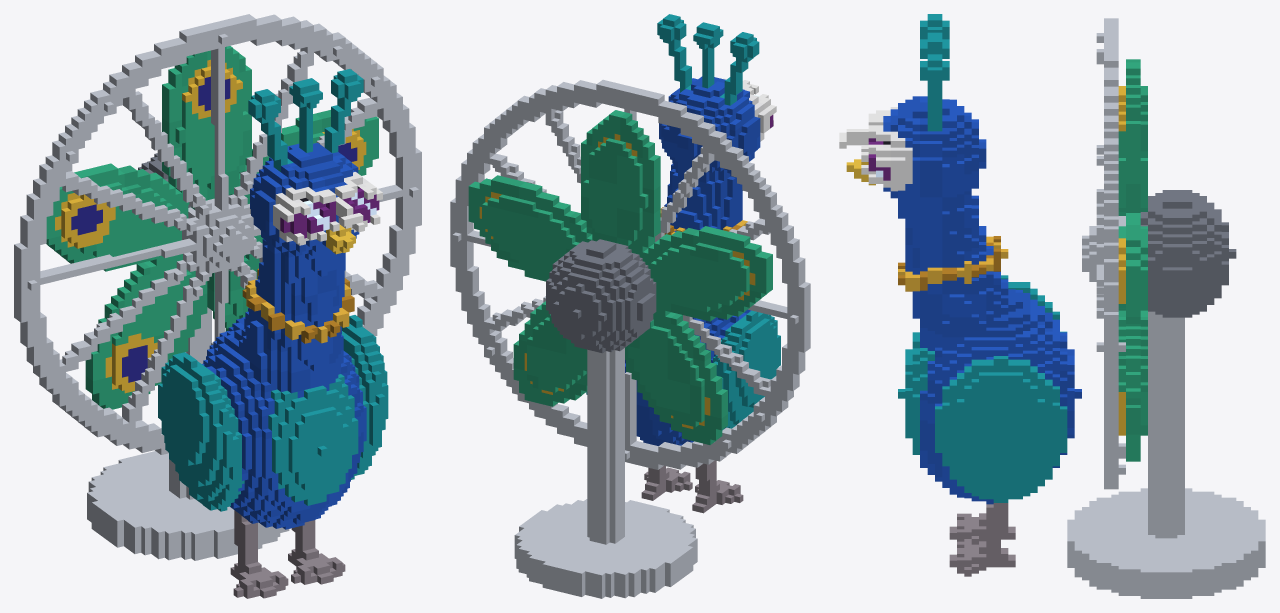
Rendered from ventilatore_pavone.glb.
3 renders of one model, left to right at view 1: azimuth 30°, elevation 25°; view 2: azimuth 150°, elevation 25°; view 3: azimuth 270°, elevation 25°, orthographic. The views are drawn at different scales.
Visible parts, largest first — view 1: SM_Brainrot_ventilatore_pavone; view 2: SM_Brainrot_ventilatore_pavone; view 3: SM_Brainrot_ventilatore_pavone.
Boxes of the visible parts, <box> form: SM_Brainrot_ventilatore_pavone: <box>14,14,421,598</box>; SM_Brainrot_ventilatore_pavone: <box>450,14,810,598</box>; SM_Brainrot_ventilatore_pavone: <box>839,14,1265,598</box>.
Bounding box in the file's own units: 3.78 × 4.68 × 3.48.
Materials: 1 (1 with a texture image).
